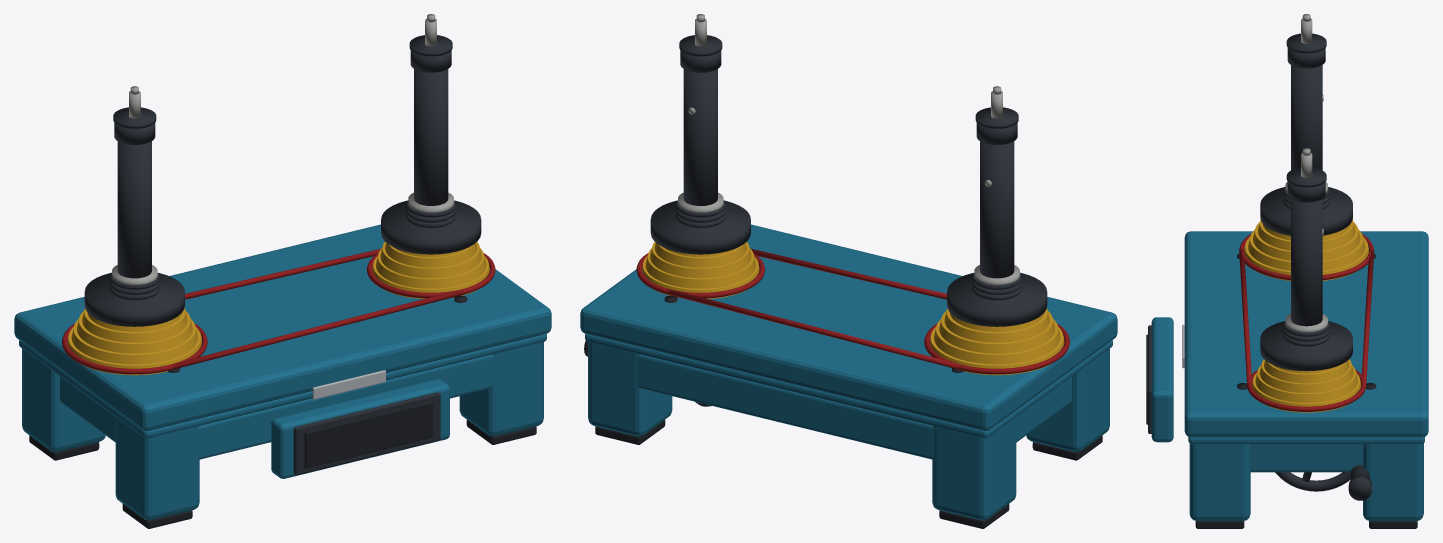
Rendered from centripetal.glb.
The picture shows the model from 3 angles, left to right: view 1: azimuth 30°, elevation 25°; view 2: azimuth 150°, elevation 25°; view 3: azimuth 270°, elevation 25°; orthographic projection. The views are drawn at different scales.
Visible parts, largest first — view 1: base_slab, pulley_l, pulley_r, leg_lf, skirt_front, leg_rf, panel_glass, column_r_tube, column_l_tube, leg_lb, panel_box, base_eave (+13 smaller); view 2: base_slab, skirt_back, pulley_l, pulley_r, leg_lb, leg_rb, column_r_tube, column_l_tube, leg_lf, base_eave, belt_run_b, skirt_l (+9 smaller); view 3: base_slab, pulley_r, pulley_l, leg_rf, leg_rb, column_r_tube, skirt_r, column_l_tube, panel_box, base_eave, belt_ring_r, hand_rim (+13 smaller).
Part boxes in pixels (x1,y1,x2,y2): base_slab: (14,224,551,431); pulley_l: (67,273,201,375); pulley_r: (372,200,489,298); leg_lf: (115,417,199,520); skirt_front: (197,354,494,459); leg_rf: (459,342,543,436); panel_glass: (304,401,432,468); column_r_tube: (414,69,448,205); column_l_tube: (117,141,151,278); leg_lb: (22,348,105,451); panel_box: (271,379,449,478); base_eave: (19,334,546,438); base_slab: (580,224,1117,431); skirt_back: (637,354,934,459); pulley_l: (930,273,1064,375); pulley_r: (642,200,759,298); leg_lb: (932,417,1016,520); leg_rb: (588,342,672,436); column_r_tube: (683,69,717,205); column_l_tube: (980,141,1014,278); leg_lf: (1026,348,1109,451); base_eave: (585,334,1112,438); belt_run_b: (667,289,960,369); skirt_l: (1016,376,1071,442); base_slab: (1184,231,1428,437); pulley_r: (1252,321,1361,412); pulley_l: (1244,187,1368,280); leg_rf: (1189,443,1250,520); leg_rb: (1363,443,1423,520); column_r_tube: (1291,199,1322,336); skirt_r: (1250,444,1362,472); column_l_tube: (1291,65,1322,170); panel_box: (1151,317,1173,442); base_eave: (1188,436,1424,444); belt_ring_r: (1247,370,1366,411); hand_rim: (1275,472,1350,491).
Bounding box in the file's own units: 0.3869 × 0.3245 × 0.2315.
